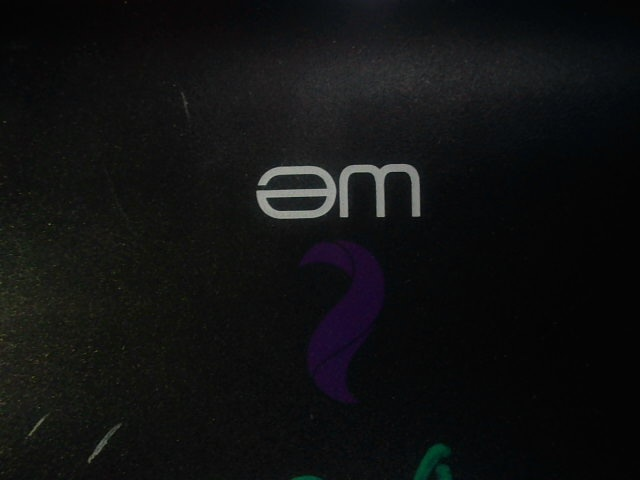AT_We: (245, 160, 432, 408)
